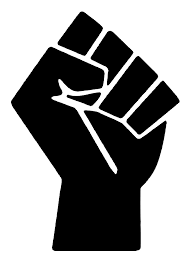fist: (27, 21, 167, 188)
